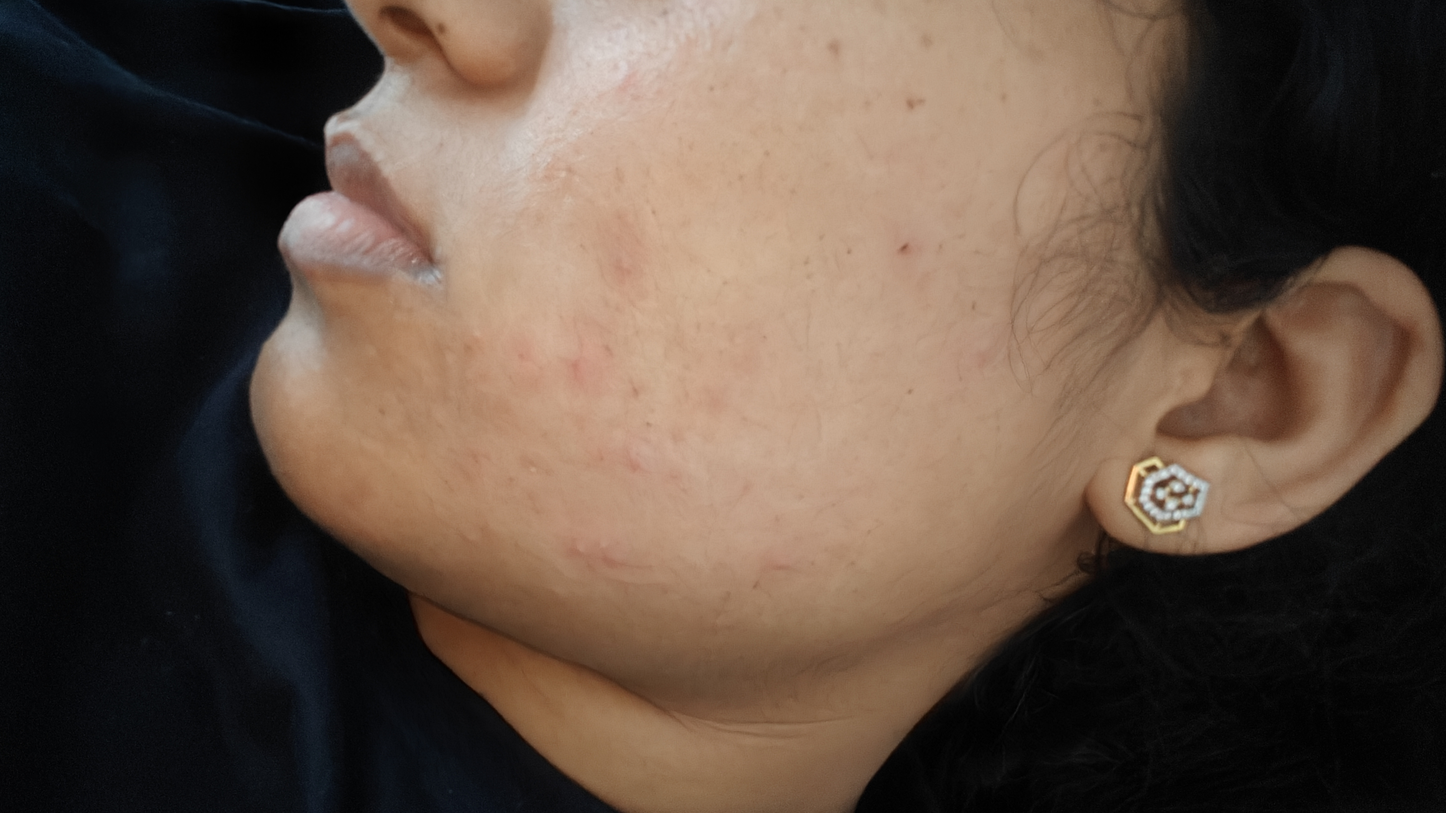papule: (456, 516, 510, 559), (570, 535, 620, 558), (613, 249, 643, 279)
